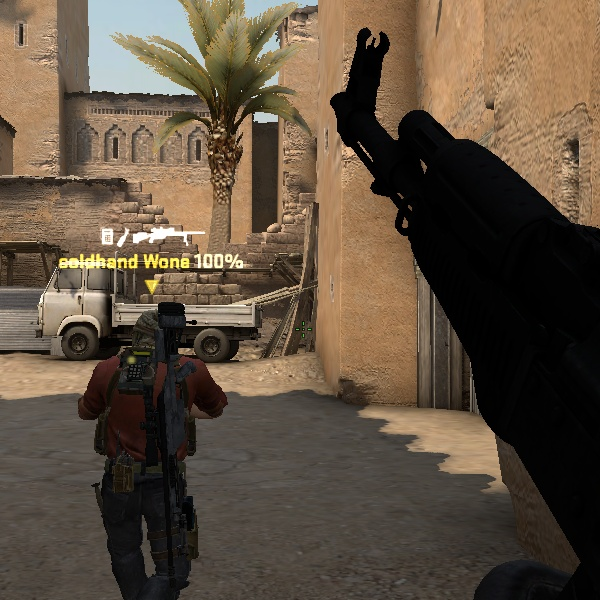t_body: (46, 298, 247, 599)
t_head: (121, 297, 198, 370)
